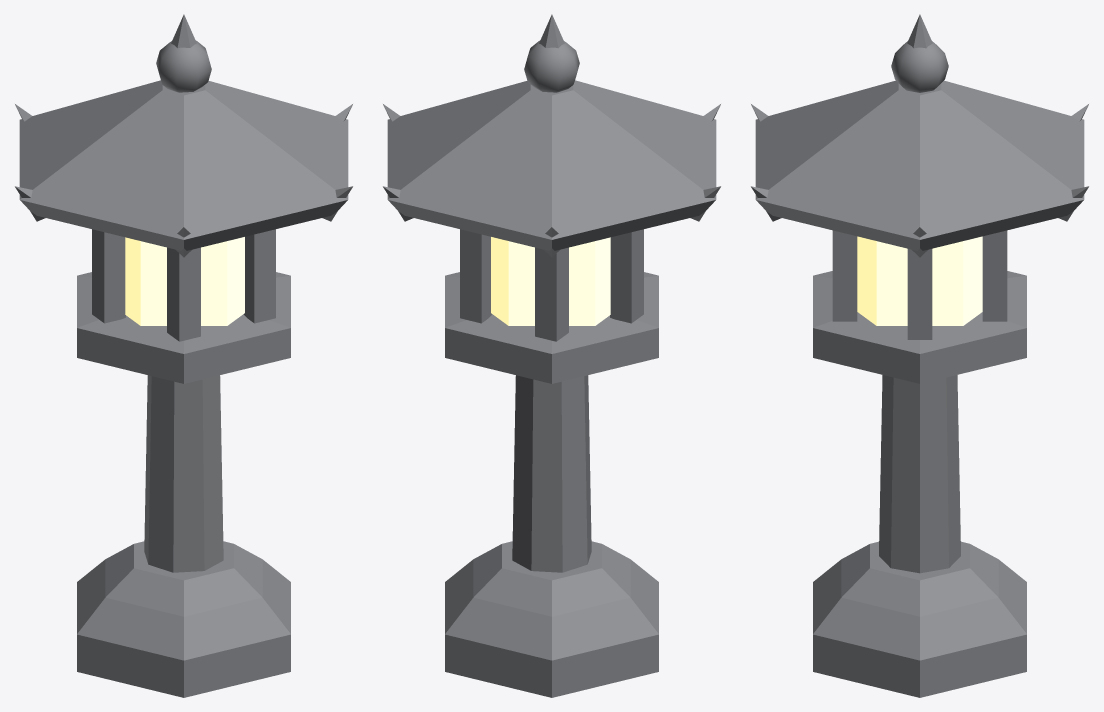
The model's file is lantern.glb.
The picture shows the model from 3 angles, left to right: view 1: azimuth 30°, elevation 25°; view 2: azimuth 150°, elevation 25°; view 3: azimuth 270°, elevation 25°; orthographic projection.
Parts seen in each view (by area): view 1: lantern; view 2: lantern; view 3: lantern.
Part boxes in pixels (x1=…): lantern: x1=15, y1=14, x2=352, y2=697; lantern: x1=383, y1=14, x2=720, y2=697; lantern: x1=751, y1=14, x2=1088, y2=697.
Size of the model in its own units: 0.9492 by 1.69 by 0.822.
